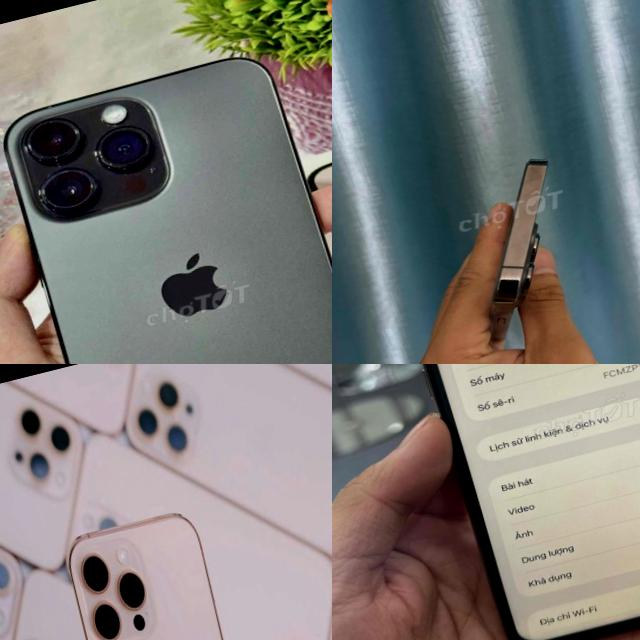gen_11: (370, 364, 640, 640)
gen_12_13: (451, 142, 604, 357)
gen_14: (0, 28, 332, 364)
gen_16: (48, 500, 287, 640)
